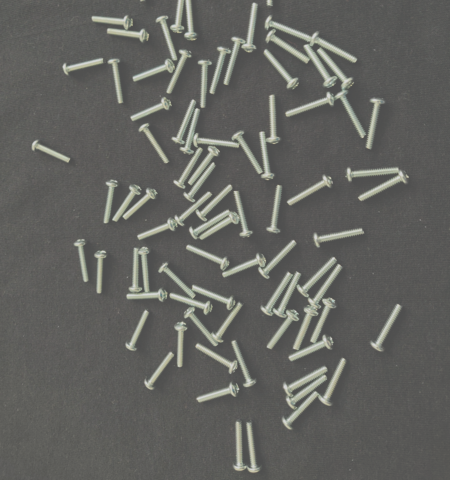longscrew: (358, 169, 411, 203), (297, 256, 339, 298), (317, 47, 357, 91), (370, 303, 405, 353), (308, 263, 345, 310), (310, 31, 359, 65), (263, 48, 301, 91), (335, 90, 367, 141), (266, 29, 311, 65), (304, 44, 339, 90), (258, 240, 298, 280), (281, 390, 320, 431), (287, 174, 334, 208), (260, 271, 294, 317), (283, 364, 329, 398), (158, 261, 197, 300), (231, 130, 264, 176), (285, 375, 328, 410), (265, 14, 315, 44), (319, 357, 349, 407), (196, 184, 234, 223), (174, 191, 214, 228), (184, 307, 220, 348), (267, 309, 302, 351), (183, 162, 218, 203), (285, 92, 336, 120), (310, 297, 340, 344), (195, 343, 239, 375), (188, 146, 222, 187), (273, 271, 302, 319), (138, 123, 171, 165), (212, 301, 245, 343), (289, 333, 335, 363), (231, 340, 259, 389), (173, 146, 204, 190), (189, 209, 231, 240), (122, 187, 159, 222), (199, 211, 240, 242), (192, 284, 237, 312), (111, 184, 143, 223), (365, 97, 388, 151), (167, 49, 194, 94), (222, 252, 267, 279), (186, 244, 231, 271), (293, 306, 320, 351), (144, 351, 175, 390), (223, 36, 247, 86), (172, 99, 197, 146), (125, 309, 152, 352), (155, 15, 179, 63), (232, 189, 255, 239), (131, 96, 173, 123), (169, 292, 214, 317), (196, 381, 241, 406), (313, 227, 366, 248), (209, 47, 232, 95), (132, 59, 176, 83), (180, 109, 202, 156), (31, 139, 72, 164), (241, 2, 261, 53), (265, 184, 285, 235), (345, 165, 400, 183), (137, 217, 178, 241), (246, 420, 264, 474), (259, 131, 277, 181), (62, 57, 106, 77), (102, 179, 121, 225), (266, 94, 283, 145), (107, 58, 125, 106), (197, 59, 214, 109), (193, 132, 240, 150), (73, 238, 91, 284), (233, 419, 248, 473), (173, 321, 190, 368), (125, 287, 169, 304), (127, 247, 143, 293), (94, 250, 110, 295), (91, 14, 135, 30), (106, 28, 150, 44), (138, 247, 153, 293), (183, 0, 199, 41), (170, 0, 188, 35), (261, 0, 278, 9), (138, 0, 150, 3)
